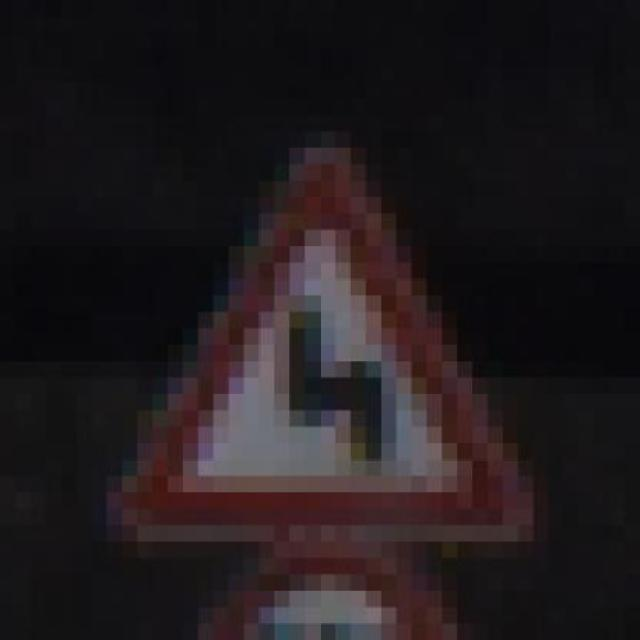Left Zig Zag Traffic: (76, 131, 549, 558)
